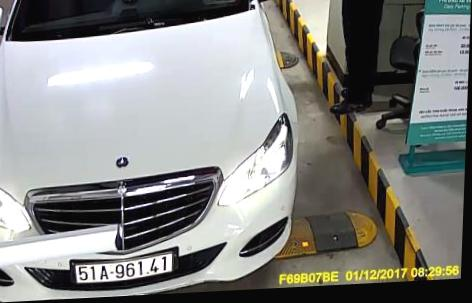License_Plate: (70, 250, 176, 285)
